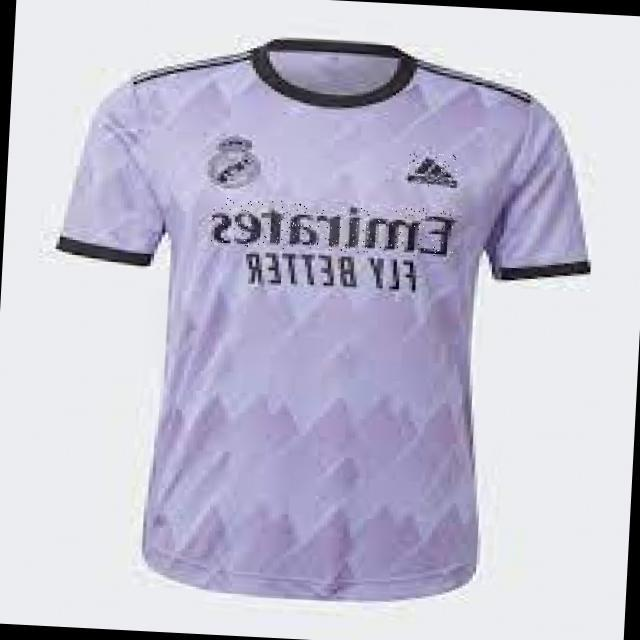Adidas: (406, 152, 459, 189)
Emirates: (208, 198, 455, 258)
